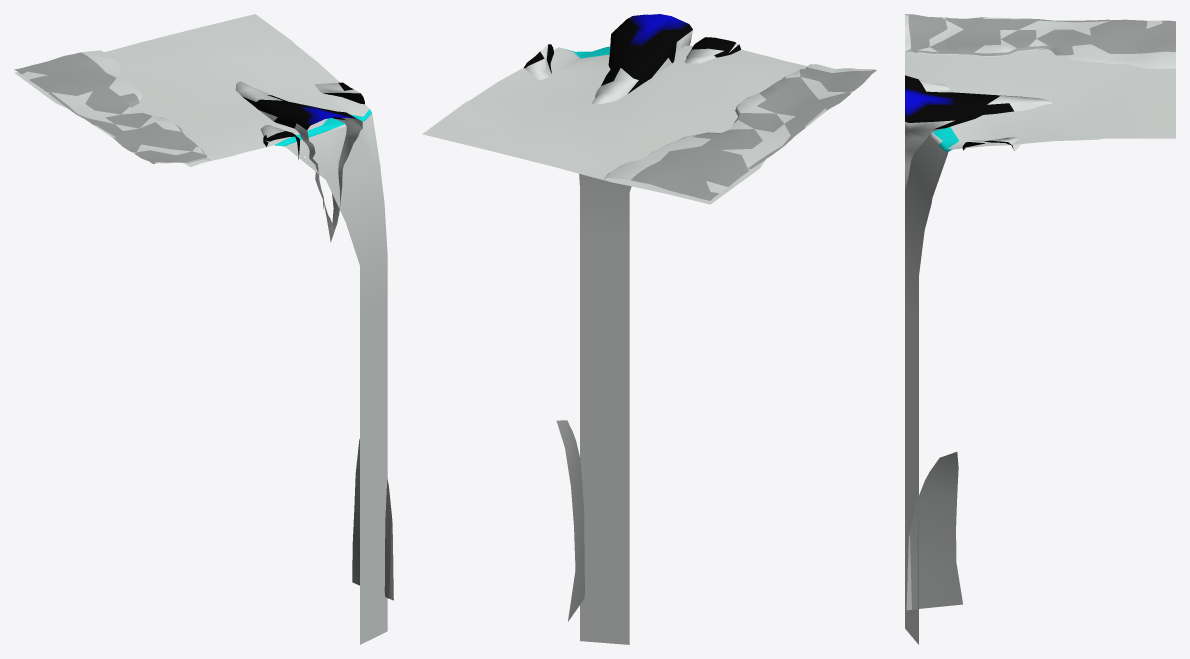
3 renders of one model, left to right at view 1: azimuth 30°, elevation 25°; view 2: azimuth 150°, elevation 25°; view 3: azimuth 270°, elevation 25°, orthographic. The views are drawn at different scales.
Visible parts, largest first — view 1: G:\FFXIV-MapTools\exports\g3f1\bg\ex2\01_gyr_g3\fld\g3f1\bgp (×12); view 2: G:\FFXIV-MapTools\exports\g3f1\bg\ex2\01_gyr_g3\fld\g3f1\bgp (×11); view 3: G:\FFXIV-MapTools\exports\g3f1\bg\ex2\01_gyr_g3\fld\g3f1\bgp (×13).
Part boxes in pixels (<box>): G:\FFXIV-MapTools\exports\g3f1\bg\ex2\01_gyr_g3\fld\g3f1\bgp (×12): <box>14,14,391,644</box>; G:\FFXIV-MapTools\exports\g3f1\bg\ex2\01_gyr_g3\fld\g3f1\bgp (×11): <box>422,14,876,644</box>; G:\FFXIV-MapTools\exports\g3f1\bg\ex2\01_gyr_g3\fld\g3f1\bgp (×13): <box>905,14,1175,644</box>.
Bounding box in the file's own units: 128 × 271 × 128.
